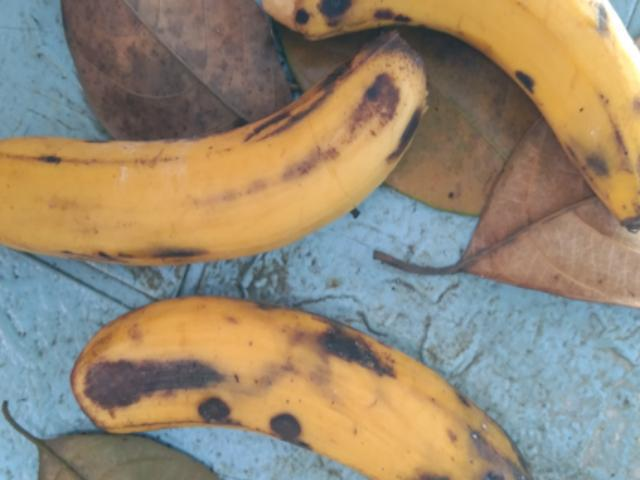overripe: (222, 0, 639, 252), (46, 285, 563, 479)
ripe: (0, 44, 462, 285)
